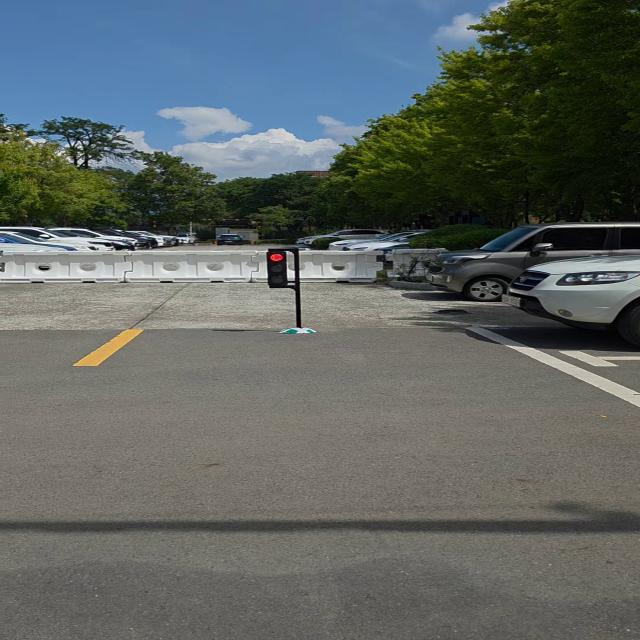red: (267, 250, 293, 289)
